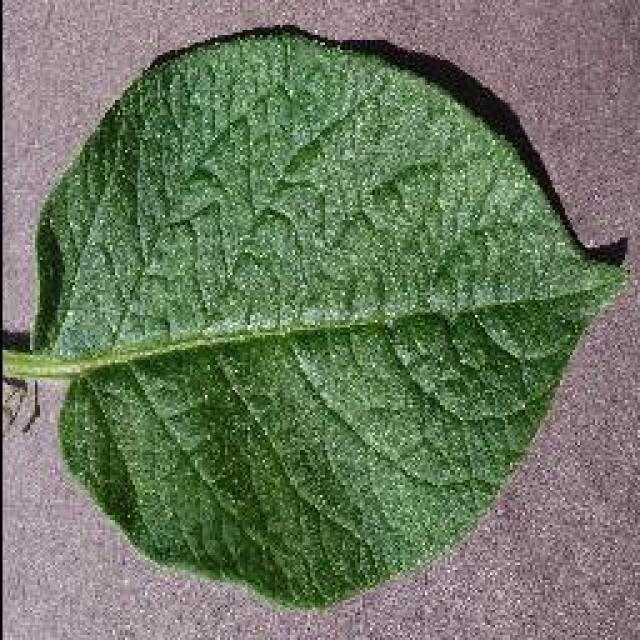Potato___healthy: (3, 23, 631, 612)
